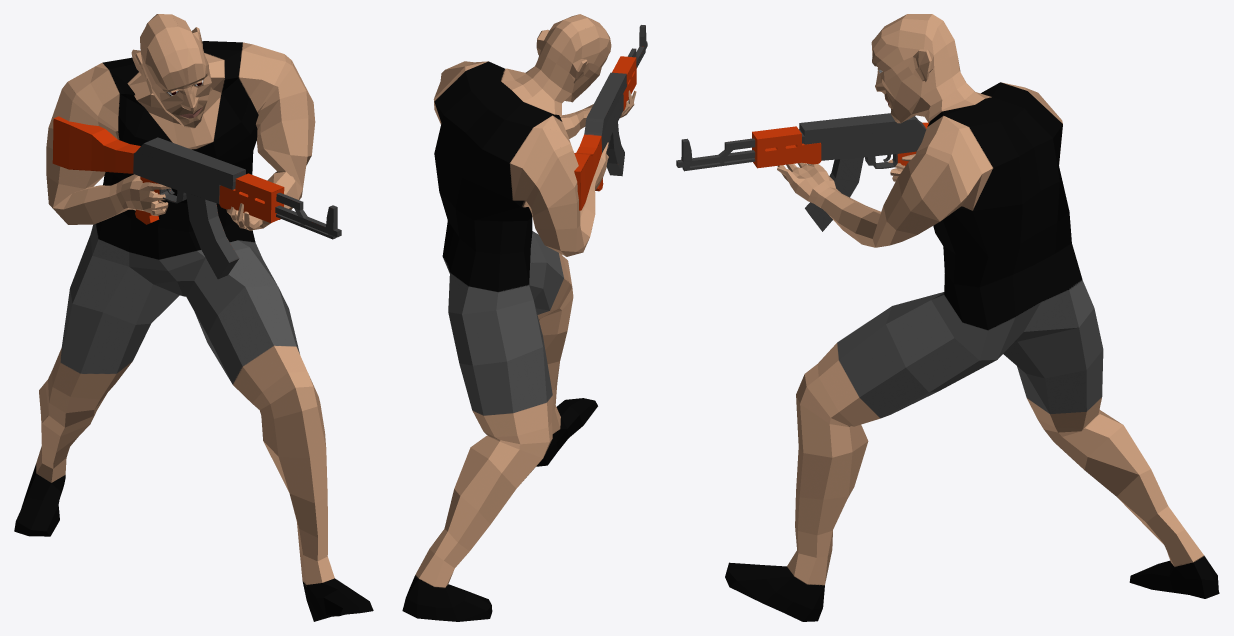
Rendered from PlayerWalk(6).obj.
The picture shows the model from 3 angles, left to right: view 1: azimuth 30°, elevation 25°; view 2: azimuth 150°, elevation 25°; view 3: azimuth 270°, elevation 25°; orthographic projection. The views are drawn at different scales.
Parts seen in each view (by area): view 1: Plane002, Object001; view 2: Plane002, Object001; view 3: Plane002, Object001.
Part boxes in pixels (bbox=[...]): Plane002: bbox=[14, 14, 373, 621]; Object001: bbox=[52, 116, 341, 279]; Plane002: bbox=[402, 14, 636, 621]; Object001: bbox=[574, 25, 647, 210]; Plane002: bbox=[725, 14, 1219, 621]; Object001: bbox=[676, 113, 928, 231].
Bounding box in the file's own units: 579 × 1573 × 1353.
